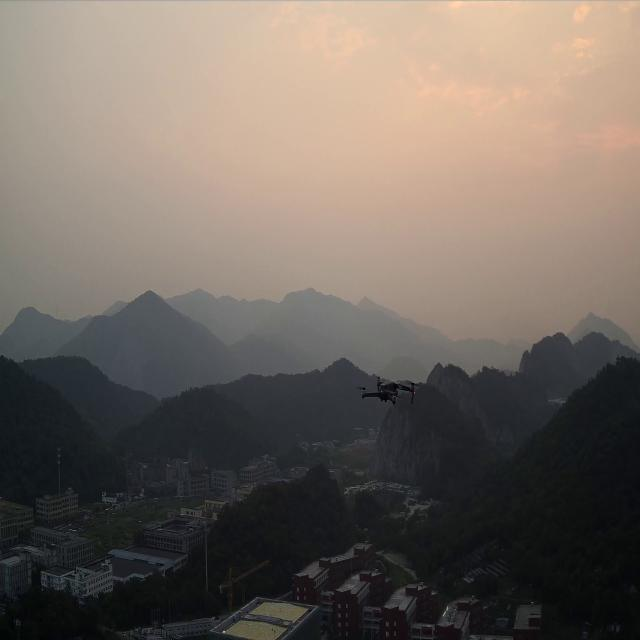UAV: (354, 373, 418, 408)
